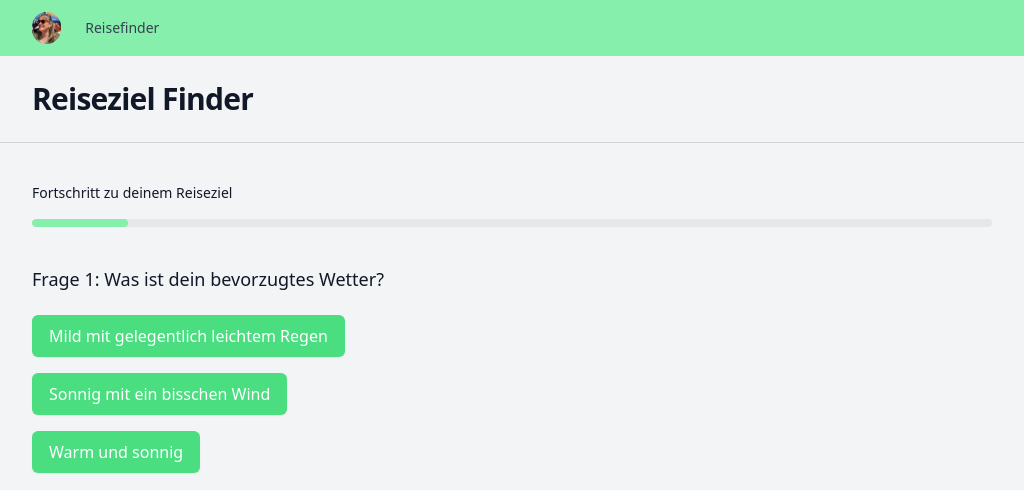
Test: [PAGES] - Reisefinder › advances to next question
Click the button "Warm und sonnig".
click(116, 452)  # box [32, 430, 200, 472]
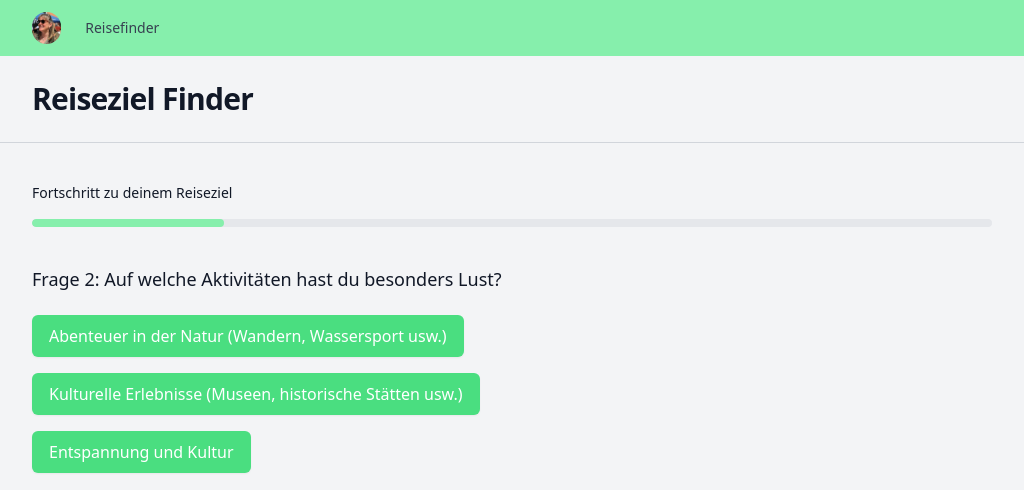
Now the heading "Frage 2: Auf welche Aktivitäten hast du besonders Lust?" is shown, box [32, 266, 502, 290]
